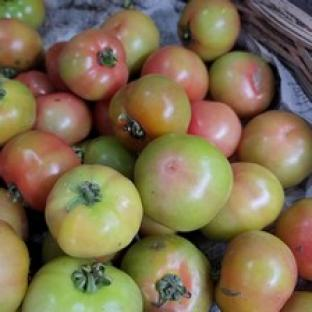Tomato: (134, 134, 232, 231), (45, 165, 143, 257), (120, 234, 213, 311), (215, 230, 298, 311), (0, 130, 80, 211), (201, 162, 284, 240), (23, 257, 142, 311), (109, 74, 190, 151), (237, 111, 311, 188), (56, 28, 129, 100), (209, 51, 277, 118), (101, 9, 160, 75), (141, 45, 208, 101), (189, 99, 242, 157), (275, 198, 311, 281), (34, 92, 91, 144), (0, 221, 30, 311), (0, 76, 36, 146), (0, 19, 43, 76), (83, 136, 136, 179), (0, 187, 29, 240), (44, 41, 69, 91), (16, 69, 55, 97), (41, 230, 65, 266), (138, 214, 176, 236), (91, 101, 114, 135), (280, 292, 311, 311)
